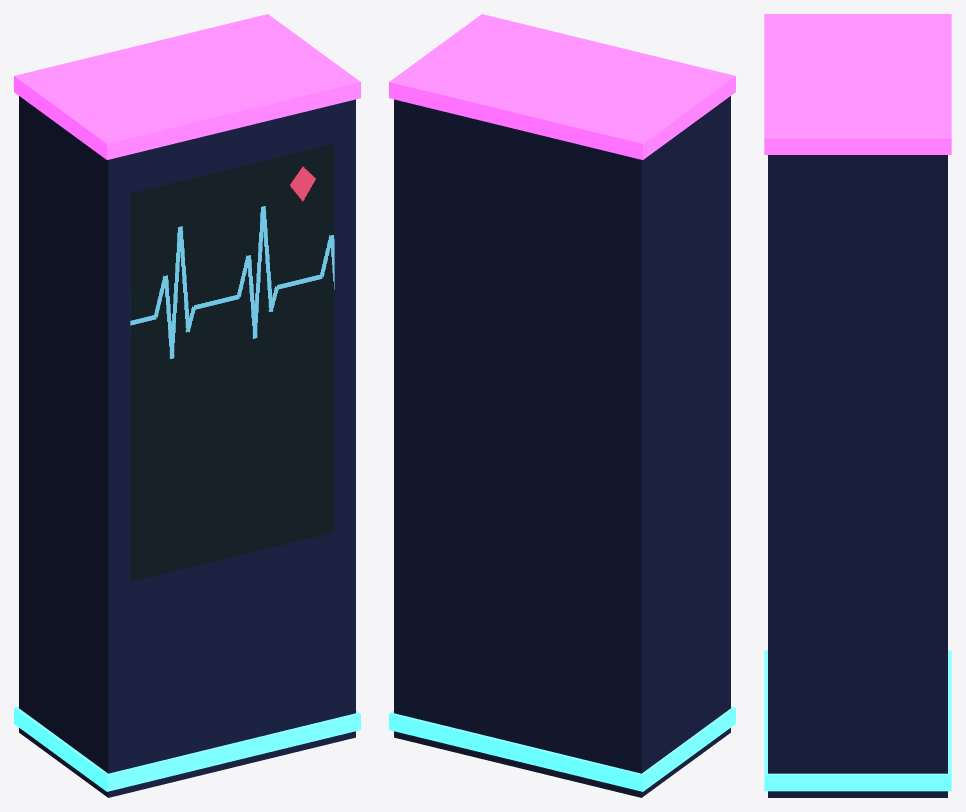
The model's file is upgrade_terminal.glb.
3 views of the same model, side by side, from view 1: azimuth 30°, elevation 25°; view 2: azimuth 150°, elevation 25°; view 3: azimuth 270°, elevation 25° (orthographic).
Parts seen in each view (by area): view 1: upgrade_terminal; view 2: upgrade_terminal; view 3: upgrade_terminal.
Part boxes in pixels (x1=…): upgrade_terminal: x1=14, y1=14, x2=360, y2=797; upgrade_terminal: x1=389, y1=14, x2=735, y2=797; upgrade_terminal: x1=764, y1=14, x2=951, y2=797.
Bounding box in the file's own units: 0.82 × 2.03 × 0.52.
4 materials, 1 textured.
